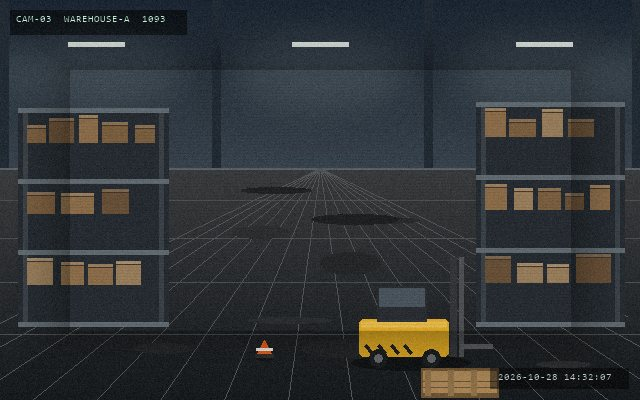cone: (254, 338, 274, 360)
forklift: (355, 255, 494, 370)
pallet: (419, 366, 500, 399)
shelf: (476, 102, 624, 322), (18, 108, 168, 322)
